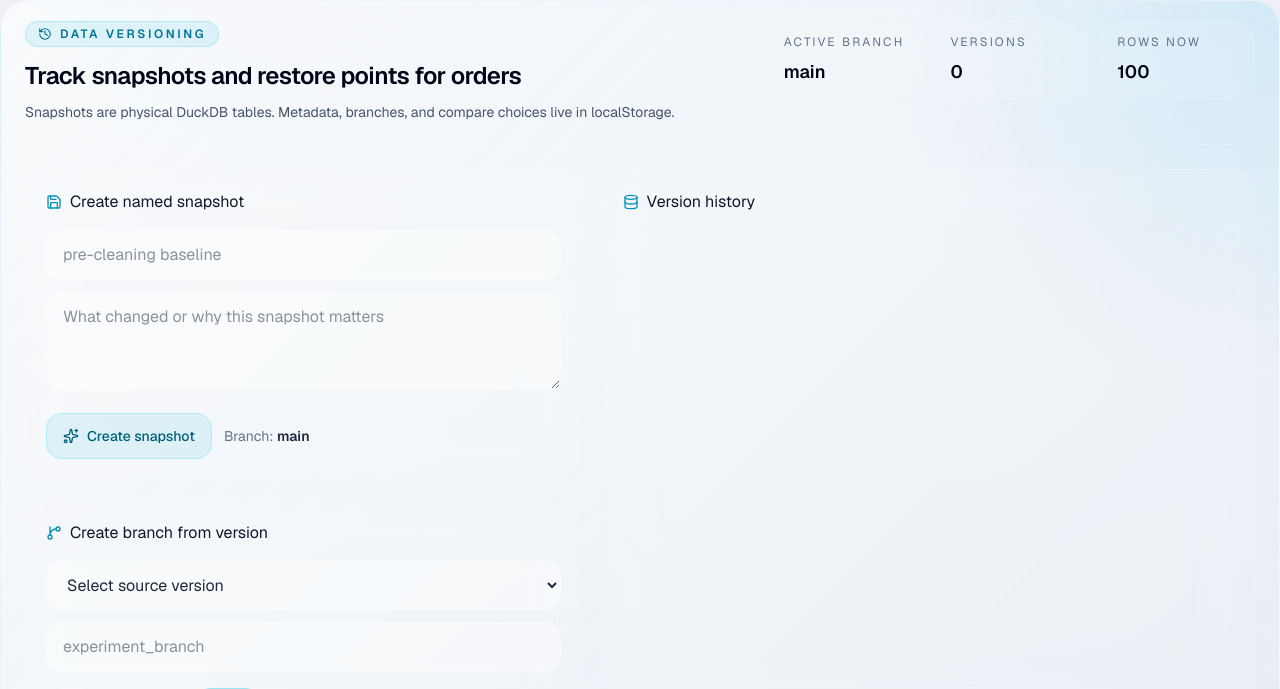
Test case: DataVersioning › creates a snapshot and lists it in version history
This screenshot has width=1280, height=689.
Type "baseline" into the field with placeholder "pre-cleaning baseline" at (303, 255), box [46,230,561,280]
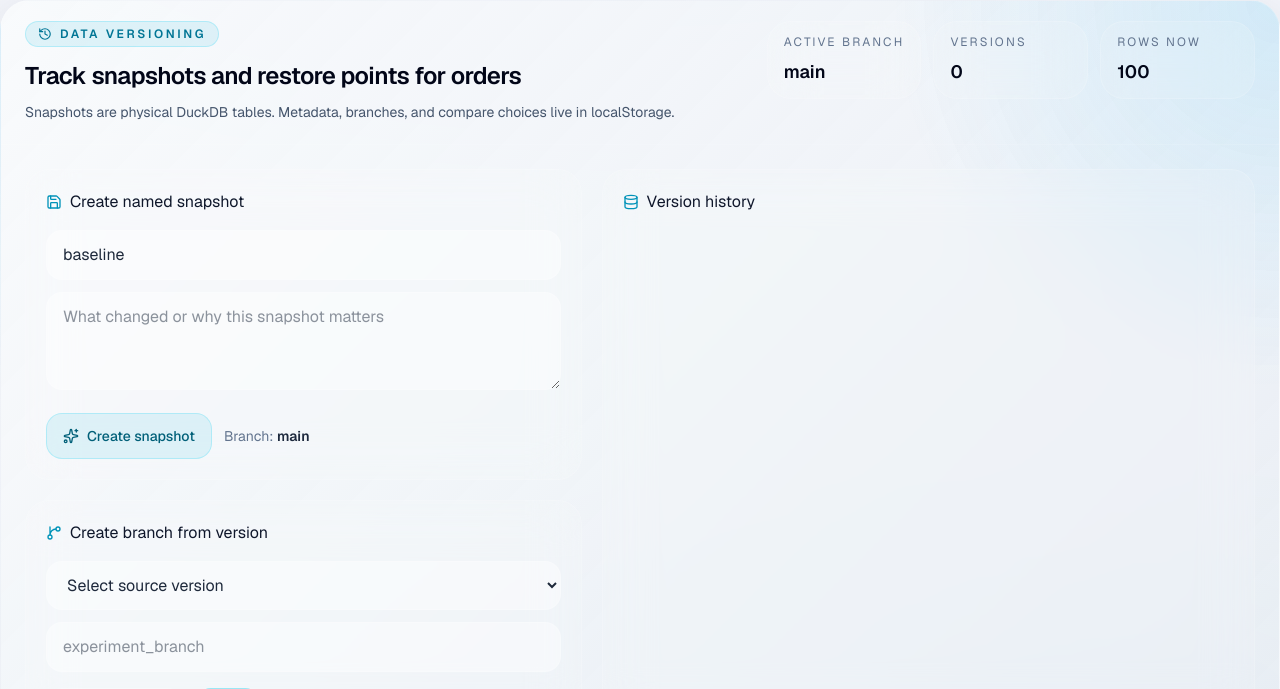
Type "Before cleanup" into the text box with placeholder "What changed or why this snapshot matters" at (303, 341), box [46,292,561,390]
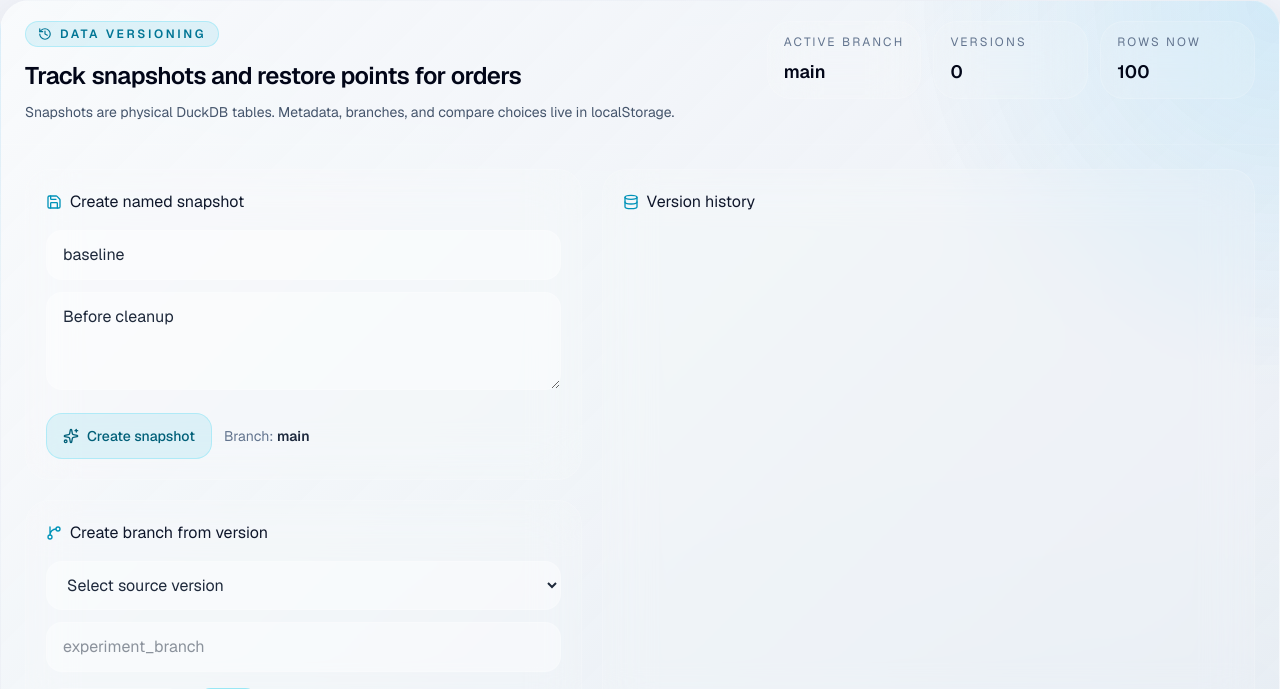
Click the button "Create snapshot" at (129, 436), box [46,413,212,459]
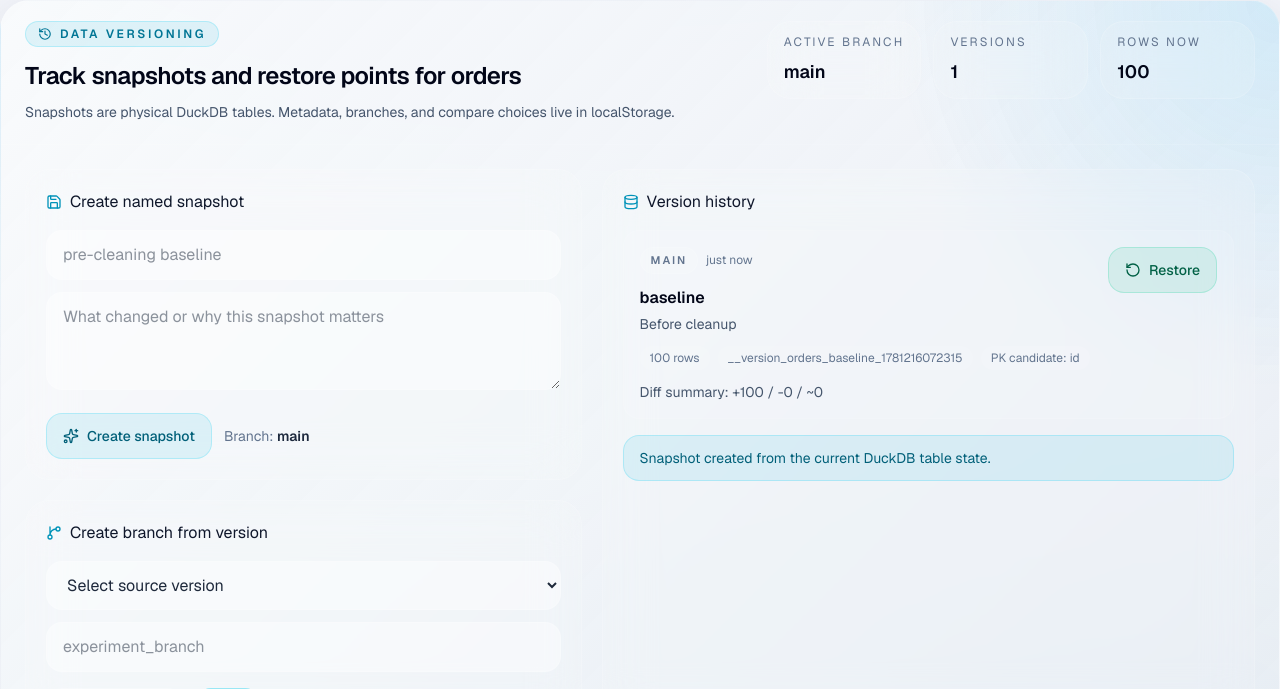
Expected: the text "Snapshot created from the current DuckDB table state." is shown, [623,434,1234,480]
Expected: the heading "baseline" is shown, [640,286,705,308]
Expected: the text "Before cleanup" is shown, [640,314,736,332]
